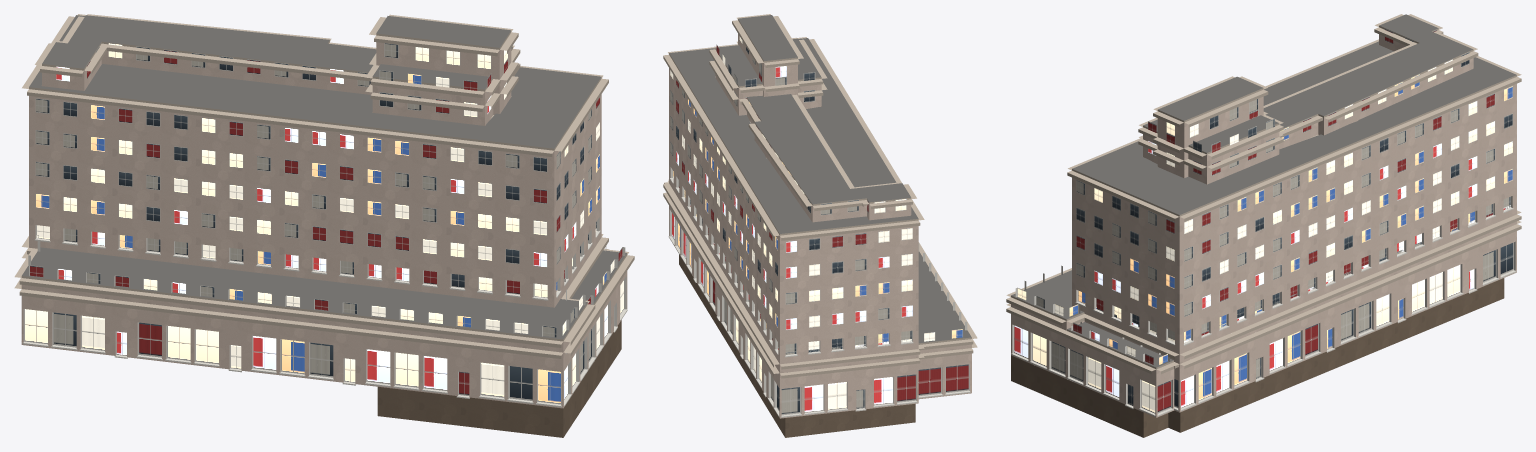
The model's file is wiedikon_block.glb.
3 views of the same model, side by side, from view 1: azimuth 30°, elevation 25°; view 2: azimuth 150°, elevation 25°; view 3: azimuth 270°, elevation 25° (orthographic). The views are drawn at different scales.
Visible parts, largest first — view 1: wiedikon_block; view 2: wiedikon_block; view 3: wiedikon_block.
Part boxes in pixels (<box>): wiedikon_block: <box>14,14,634,437</box>; wiedikon_block: <box>663,14,977,437</box>; wiedikon_block: <box>1006,14,1521,437</box>.
Bounding box in the file's own units: 53.12 × 32.89 × 54.85.
Materials: 3 (3 with a texture image).
